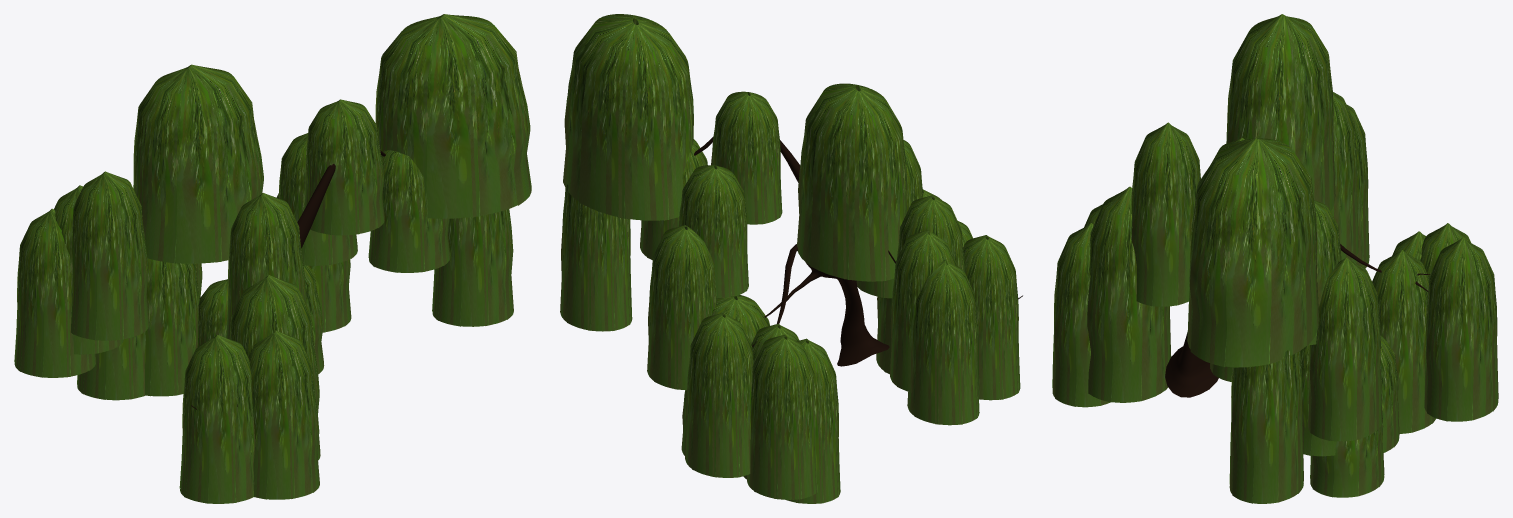
File: Tree.FBX
3 renders of one model, left to right at view 1: azimuth 30°, elevation 25°; view 2: azimuth 150°, elevation 25°; view 3: azimuth 270°, elevation 25°, orthographic. The views are drawn at different scales.
Visible parts, largest first — view 1: Object022; view 2: Object022; view 3: Object022.
Part boxes in pixels (box(x1,y1,x2,y2)): Object022: box(14, 14, 531, 503); Object022: box(560, 14, 1022, 503); Object022: box(1052, 14, 1498, 503).
Bounding box in the file's own units: 1595 × 1266 × 1254.
